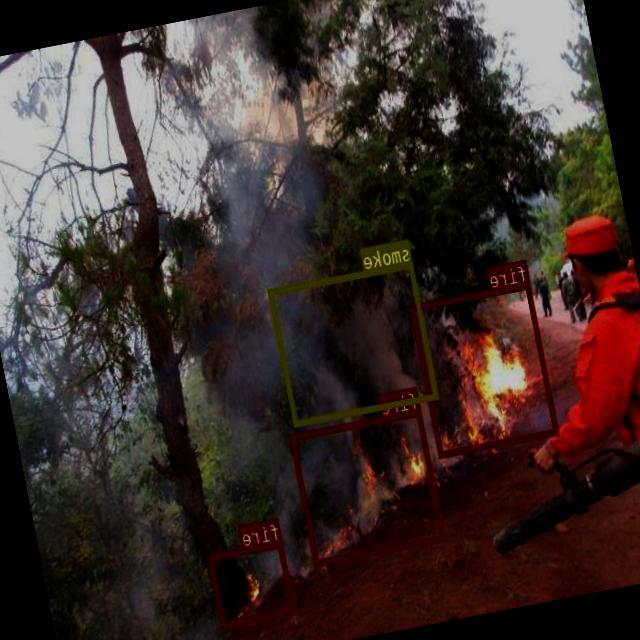fire: (411, 282, 560, 456), (290, 407, 448, 564), (208, 540, 298, 626)
smoke: (268, 260, 440, 426)
